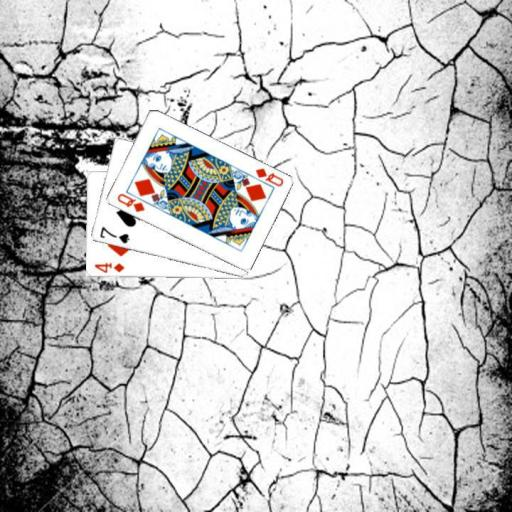4D: (91, 260, 125, 275)
7S: (96, 224, 130, 245)
QD: (114, 190, 146, 213), (252, 165, 284, 188)
